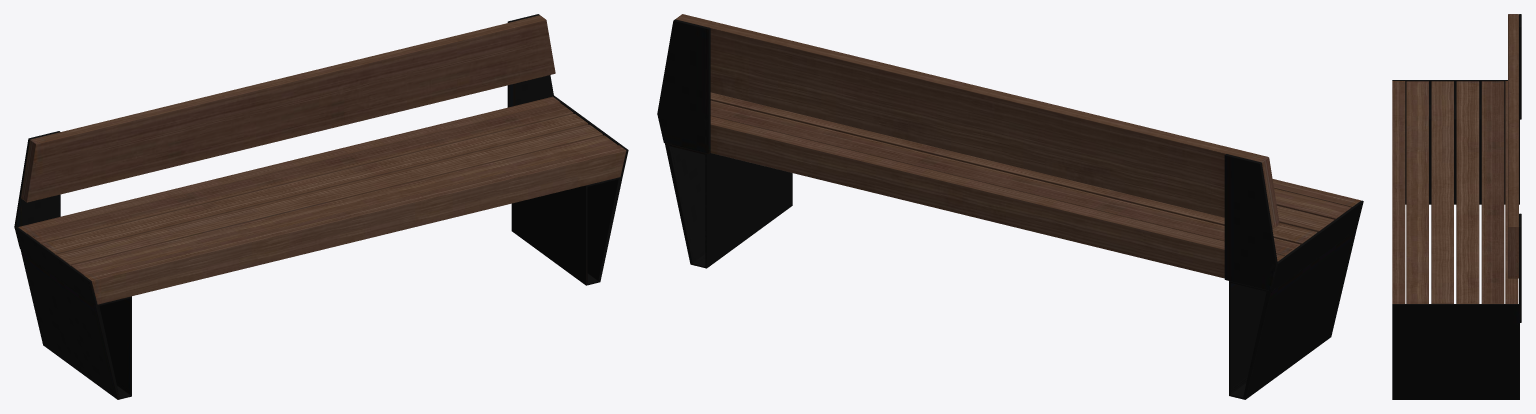
Rendered from st_bench_26_slab.gltf.
The picture shows the model from 3 angles, left to right: view 1: azimuth 30°, elevation 25°; view 2: azimuth 150°, elevation 25°; view 3: azimuth 270°, elevation 25°; orthographic projection. The views are drawn at different scales.
Parts seen in each view (by area): view 1: Cube.001, Cube.003, Cube.002, Cube.004, Cube.005; view 2: Cube.001, Cube.004, Cube.002, Cube.003, Cube.005; view 3: Cube.003, Cube.004, Cube.002, Cube.001, Cube.005.
Boxes of the visible parts, x1=… form: Cube.001: x1=21, y1=15, x2=555, y2=202; Cube.003: x1=27, y1=103, x2=617, y2=275; Cube.002: x1=18, y1=96, x2=626, y2=304; Cube.004: x1=15, y1=95, x2=628, y2=399; Cube.005: x1=14, y1=14, x2=553, y2=248; Cube.001: x1=675, y1=14, x2=1279, y2=229; Cube.004: x1=665, y1=143, x2=1363, y2=399; Cube.002: x1=710, y1=116, x2=1360, y2=278; Cube.003: x1=710, y1=92, x2=1350, y2=255; Cube.005: x1=657, y1=19, x2=1277, y2=290; Cube.003: x1=1406, y1=81, x2=1504, y2=303; Cube.004: x1=1392, y1=80, x2=1519, y2=399; Cube.002: x1=1392, y1=81, x2=1518, y2=303; Cube.001: x1=1508, y1=14, x2=1518, y2=278; Cube.005: x1=1519, y1=14, x2=1521, y2=322.
Size of the model in its own units: 2.02 by 0.7511 by 0.4914.
Materials: 1 (1 with a texture image).
